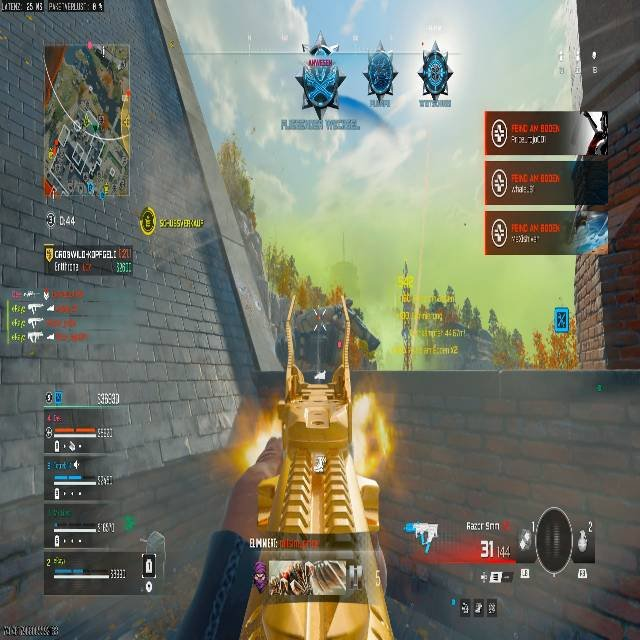head: (310, 45, 331, 57)
player: (295, 46, 346, 119), (417, 47, 451, 104), (363, 52, 398, 105)
